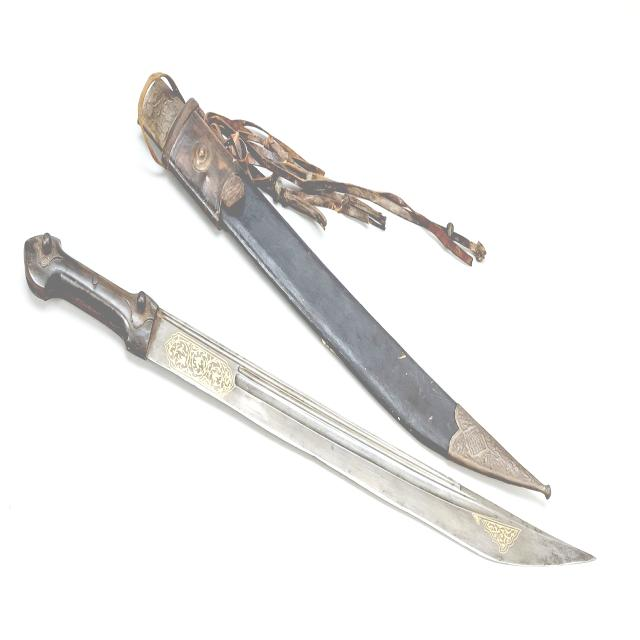short sword: (22, 212, 606, 576)
